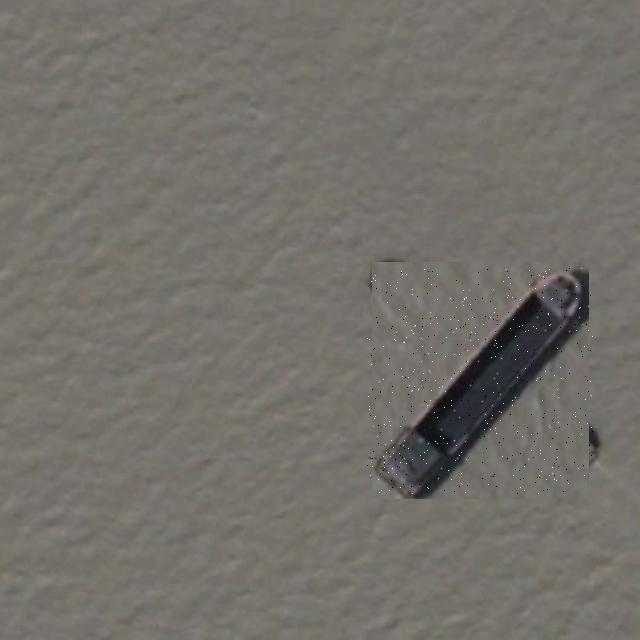boat: (367, 268, 594, 494)
